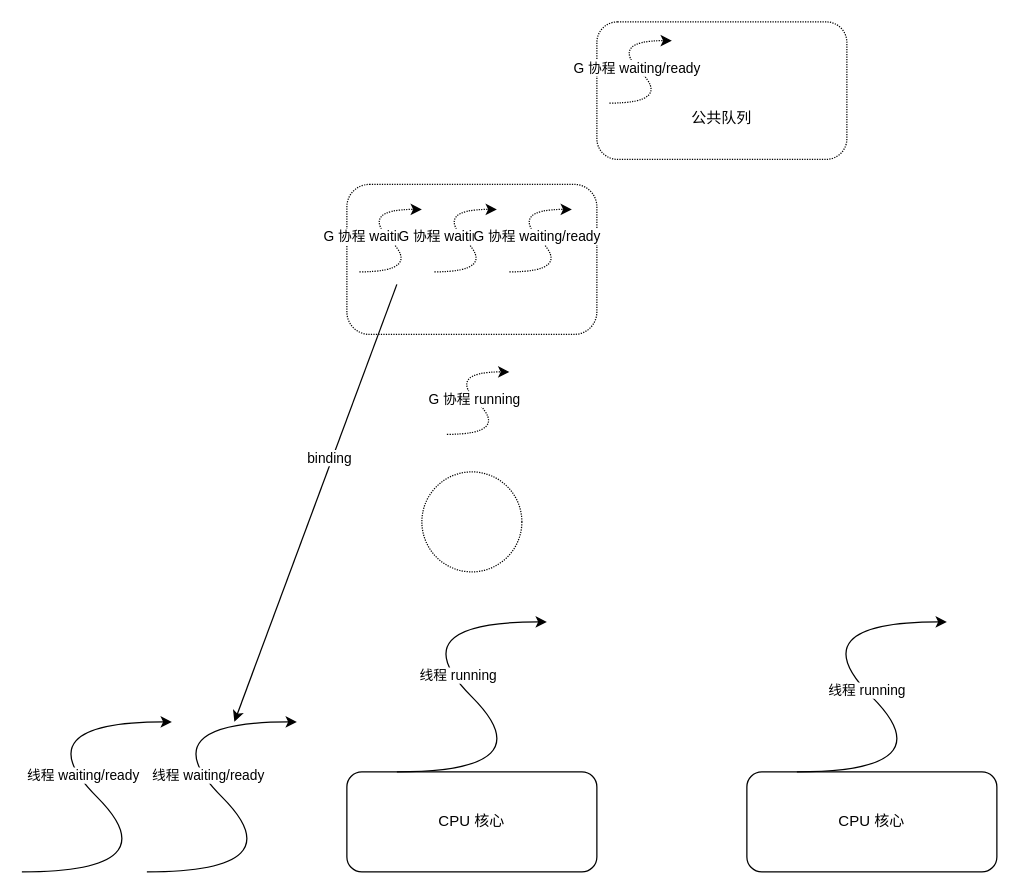
The diagram is 1019 pixels wide and 894 high, and some of its shapes have lost their labels. The shapes that lost their labels are listed below. From the top down, each one's box as (x1, y1, x2, y2) in pixels, then its label:
(346, 183, 597, 334): P processor
(421, 471, 522, 572): M machine
